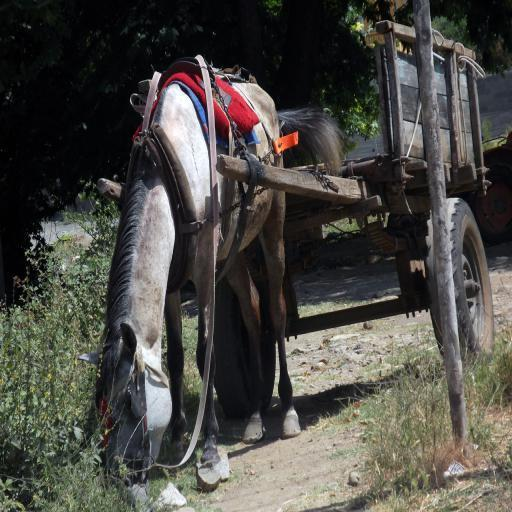horse: (78, 58, 350, 486)
